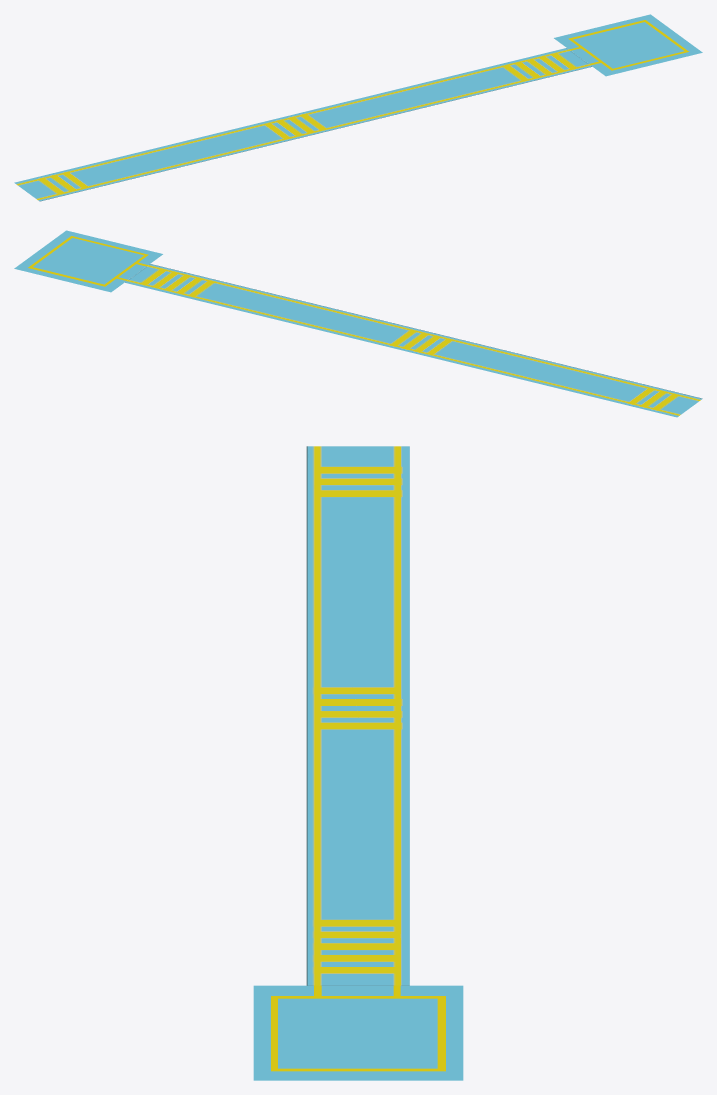
The model's file is RampTarget.fbx.
3 views of the same model, one above another, from view 1: azimuth 30°, elevation 25°; view 2: azimuth 150°, elevation 25°; view 3: azimuth 270°, elevation 25° (orthographic). The views are drawn at different scales.
Visible parts, largest first — view 1: Plane.005, Plane.008; view 2: Plane.005, Plane.008; view 3: Plane.005, Plane.008.
Boxes of the visible parts, <box> form: Plane.005: <box>14,48,591,201</box>; Plane.008: <box>554,14,702,76</box>; Plane.005: <box>125,264,702,417</box>; Plane.008: <box>14,230,162,292</box>; Plane.005: <box>306,446,409,985</box>; Plane.008: <box>253,985,463,1080</box>.
Size of the model in its own units: 290 by 6.6e-06 by 40.54.
3 materials, 1 textured.
